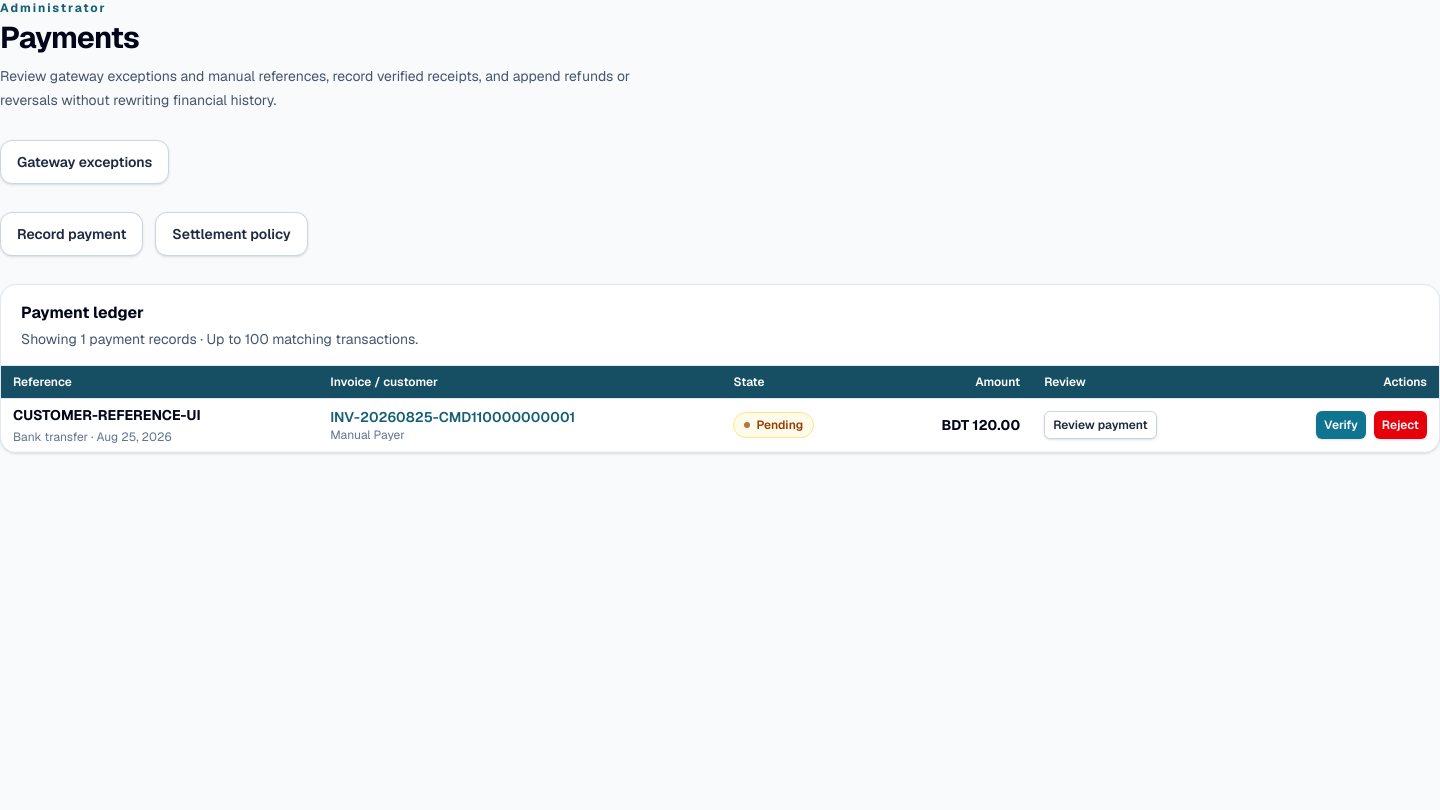
Test: manual payment interfaces › loads the administrator ledger, review controls, and settlement policy
Expected: the heading "Payments" is shown, [0,18,139,57]
Expected: the text "CUSTOMER-REFERENCE-UI" is shown, [13,406,201,424]
Click the button "Settlement policy".
click(232, 234)  # box [155,212,308,256]
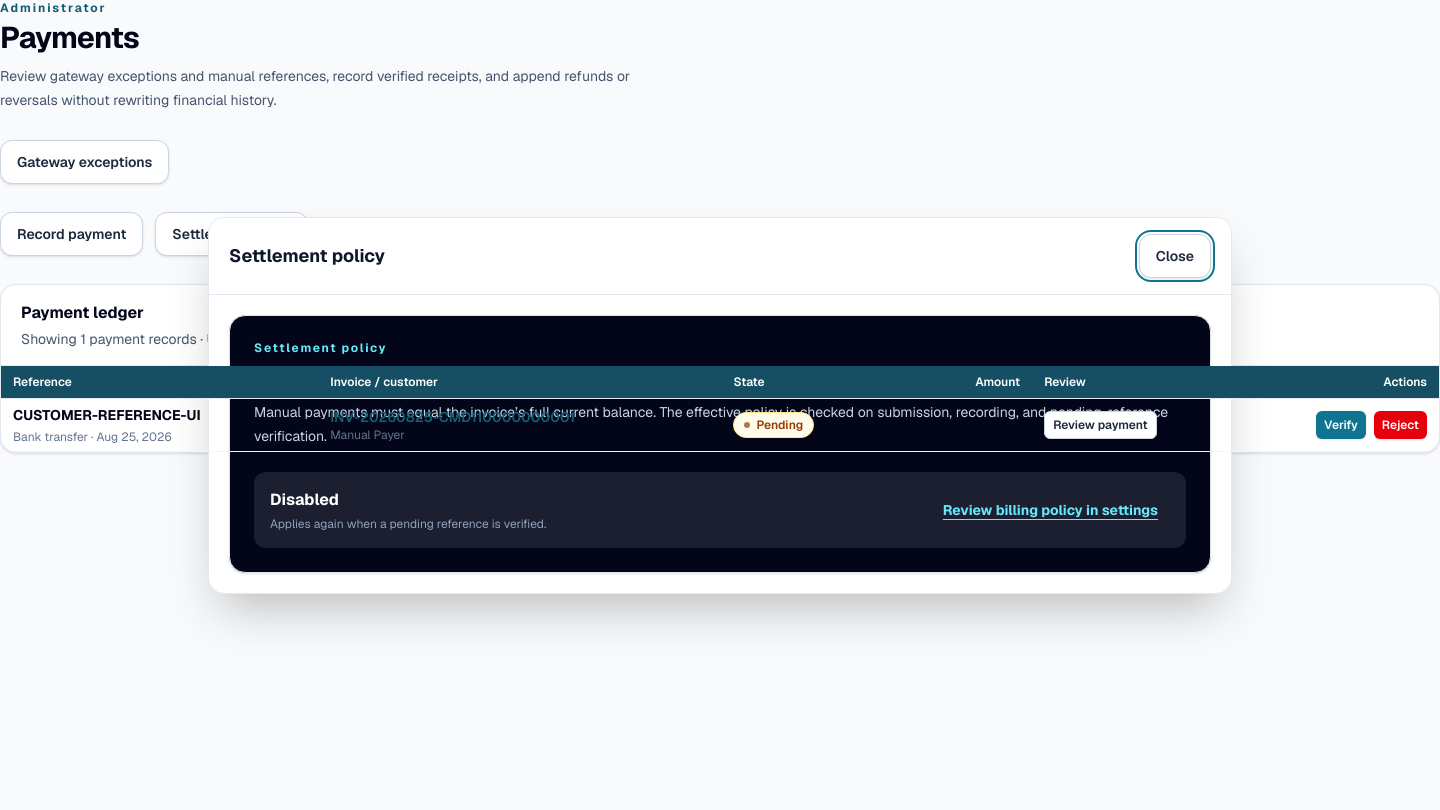
Now the text "Disabled" is shown, box [270,488,339,510]
Click the button "Record payment".
click(72, 234)  # box [0,212,143,256]
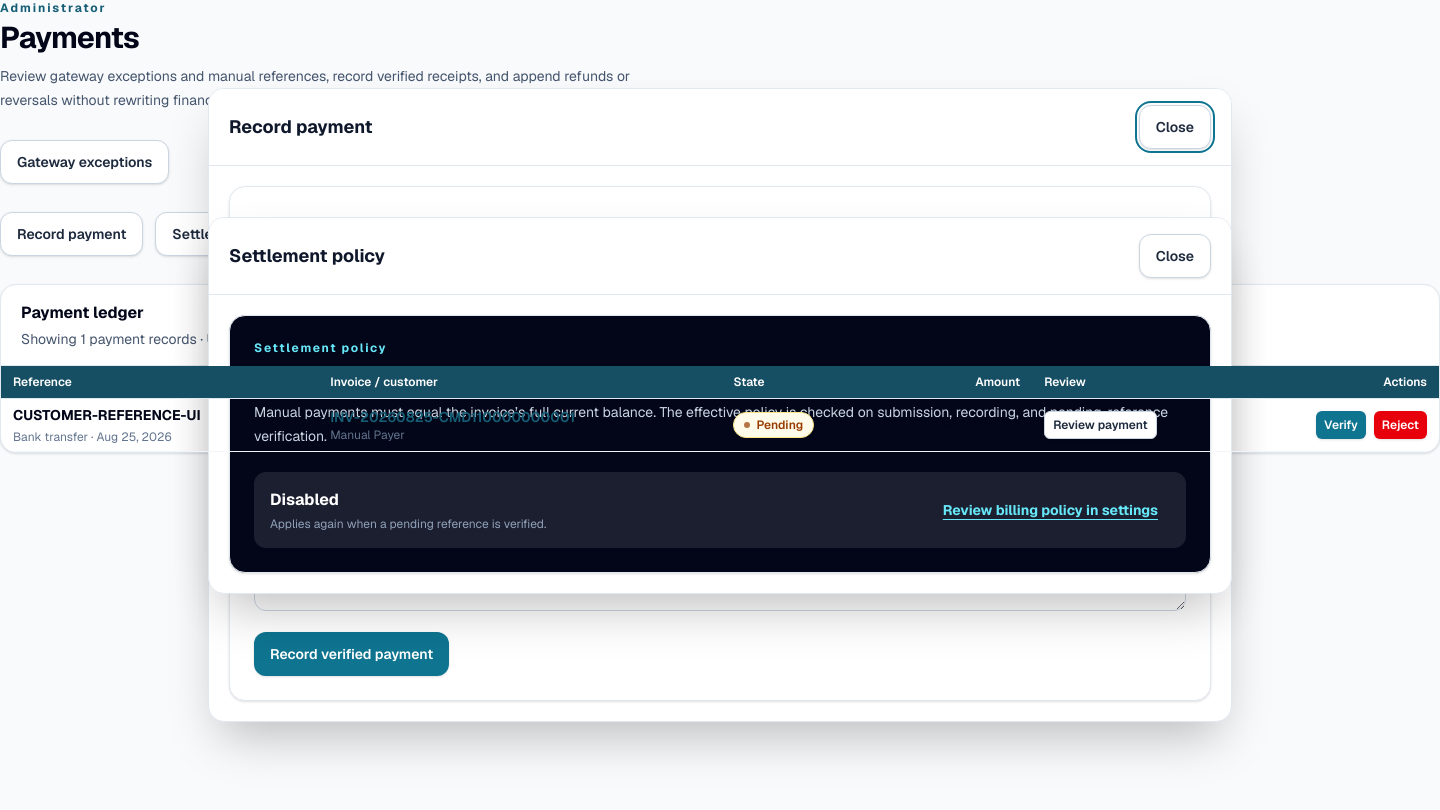
Now the button "Record verified payment" is shown, box [254,632,449,676]
